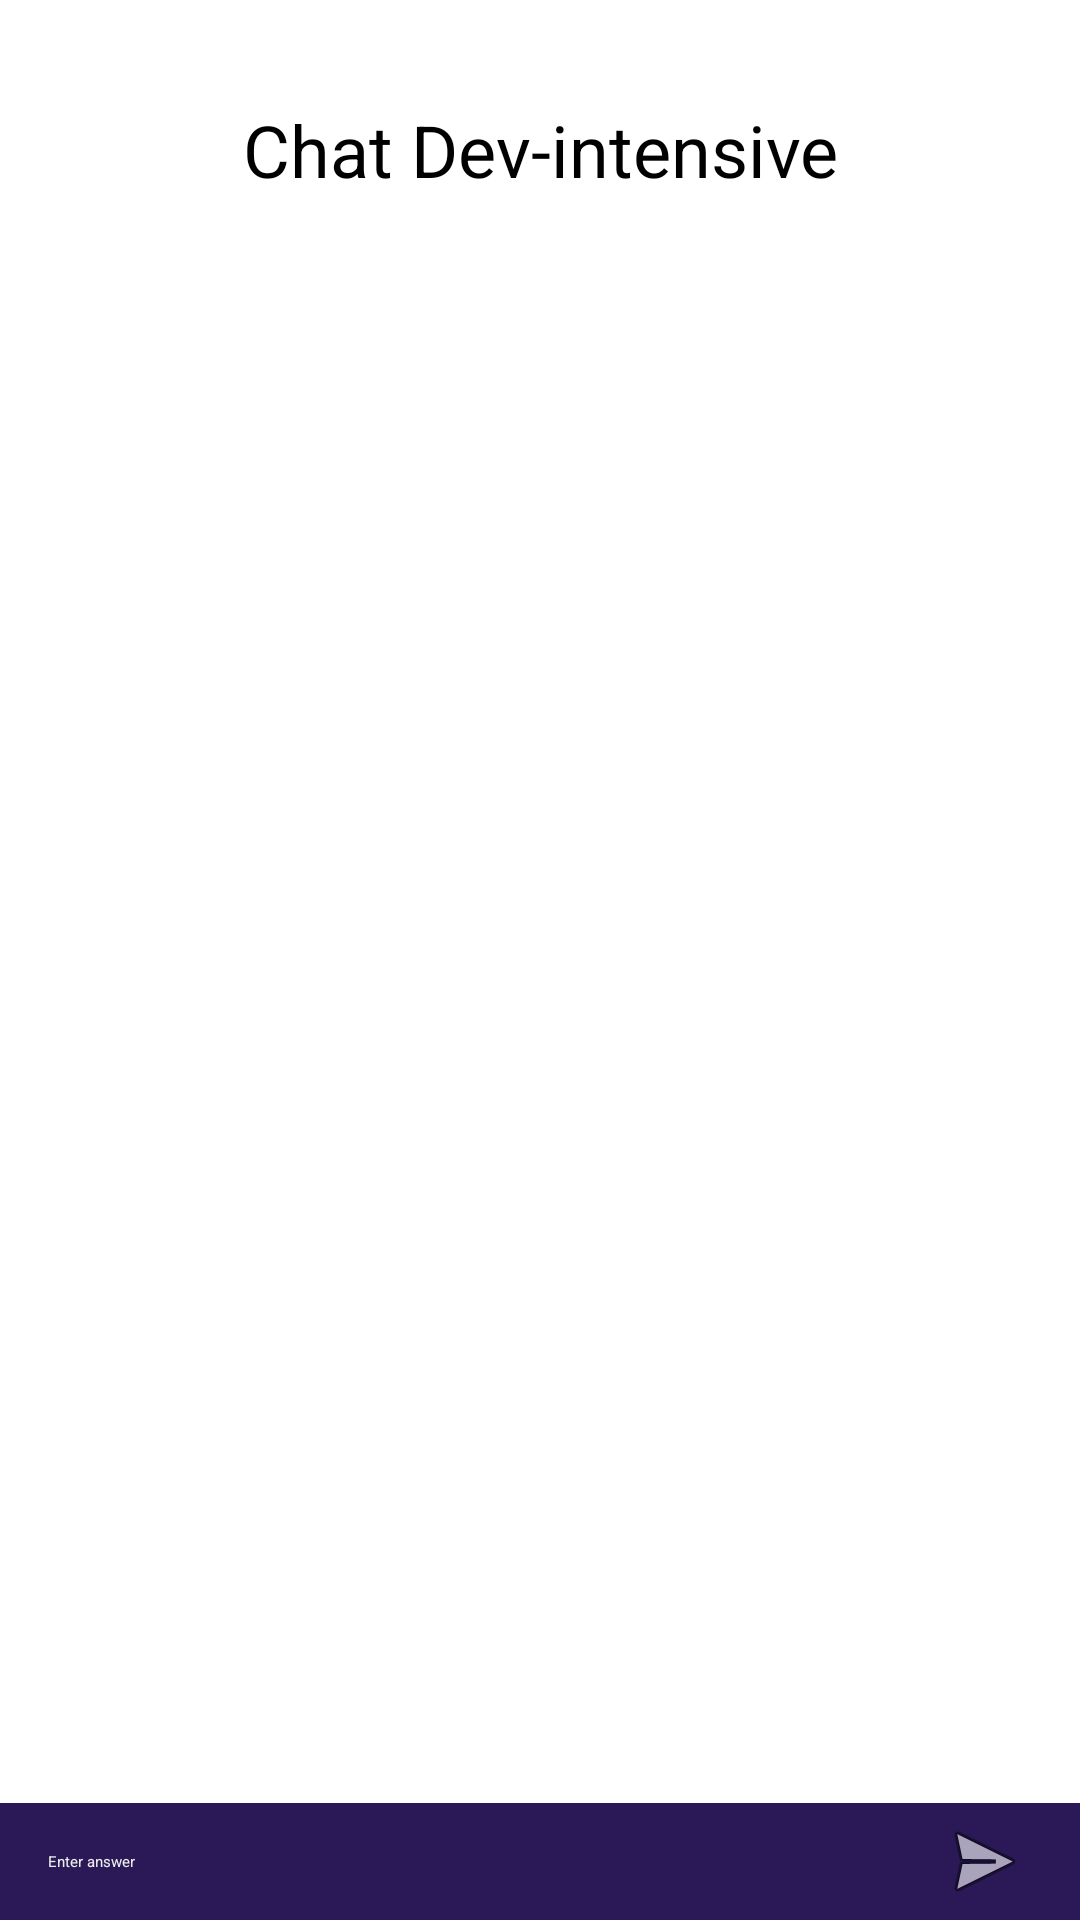

Screen size 1080x1920. Icon name, then its center in pixels as (x,y):
send: (985,1861)
